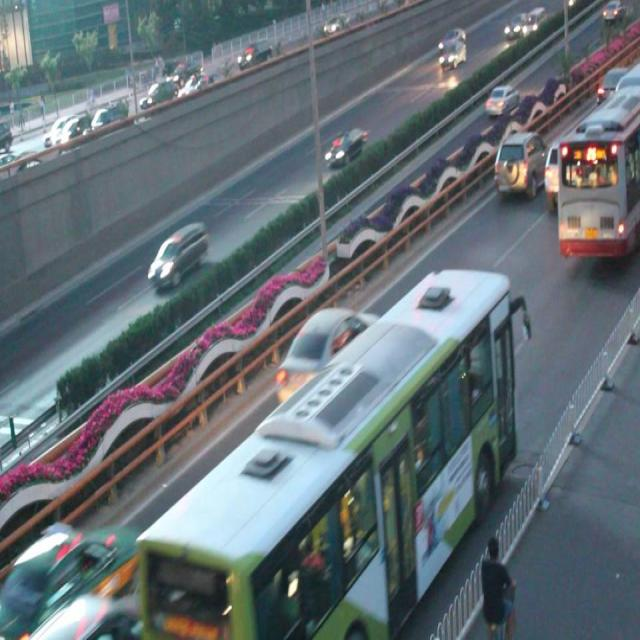car: (0, 518, 140, 640), (276, 306, 376, 405), (31, 588, 159, 640), (544, 120, 598, 215), (492, 128, 544, 198), (322, 127, 367, 170), (482, 85, 518, 116)
truck: (146, 225, 210, 287)
van: (144, 263, 516, 640), (558, 74, 640, 259)
